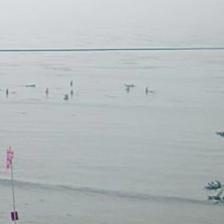surfer: (44, 88, 50, 96), (124, 83, 136, 87), (145, 86, 150, 94), (25, 84, 36, 87), (5, 88, 9, 96), (70, 80, 74, 88), (70, 90, 75, 96), (64, 94, 68, 101), (126, 87, 130, 93), (0, 85, 2, 91)
